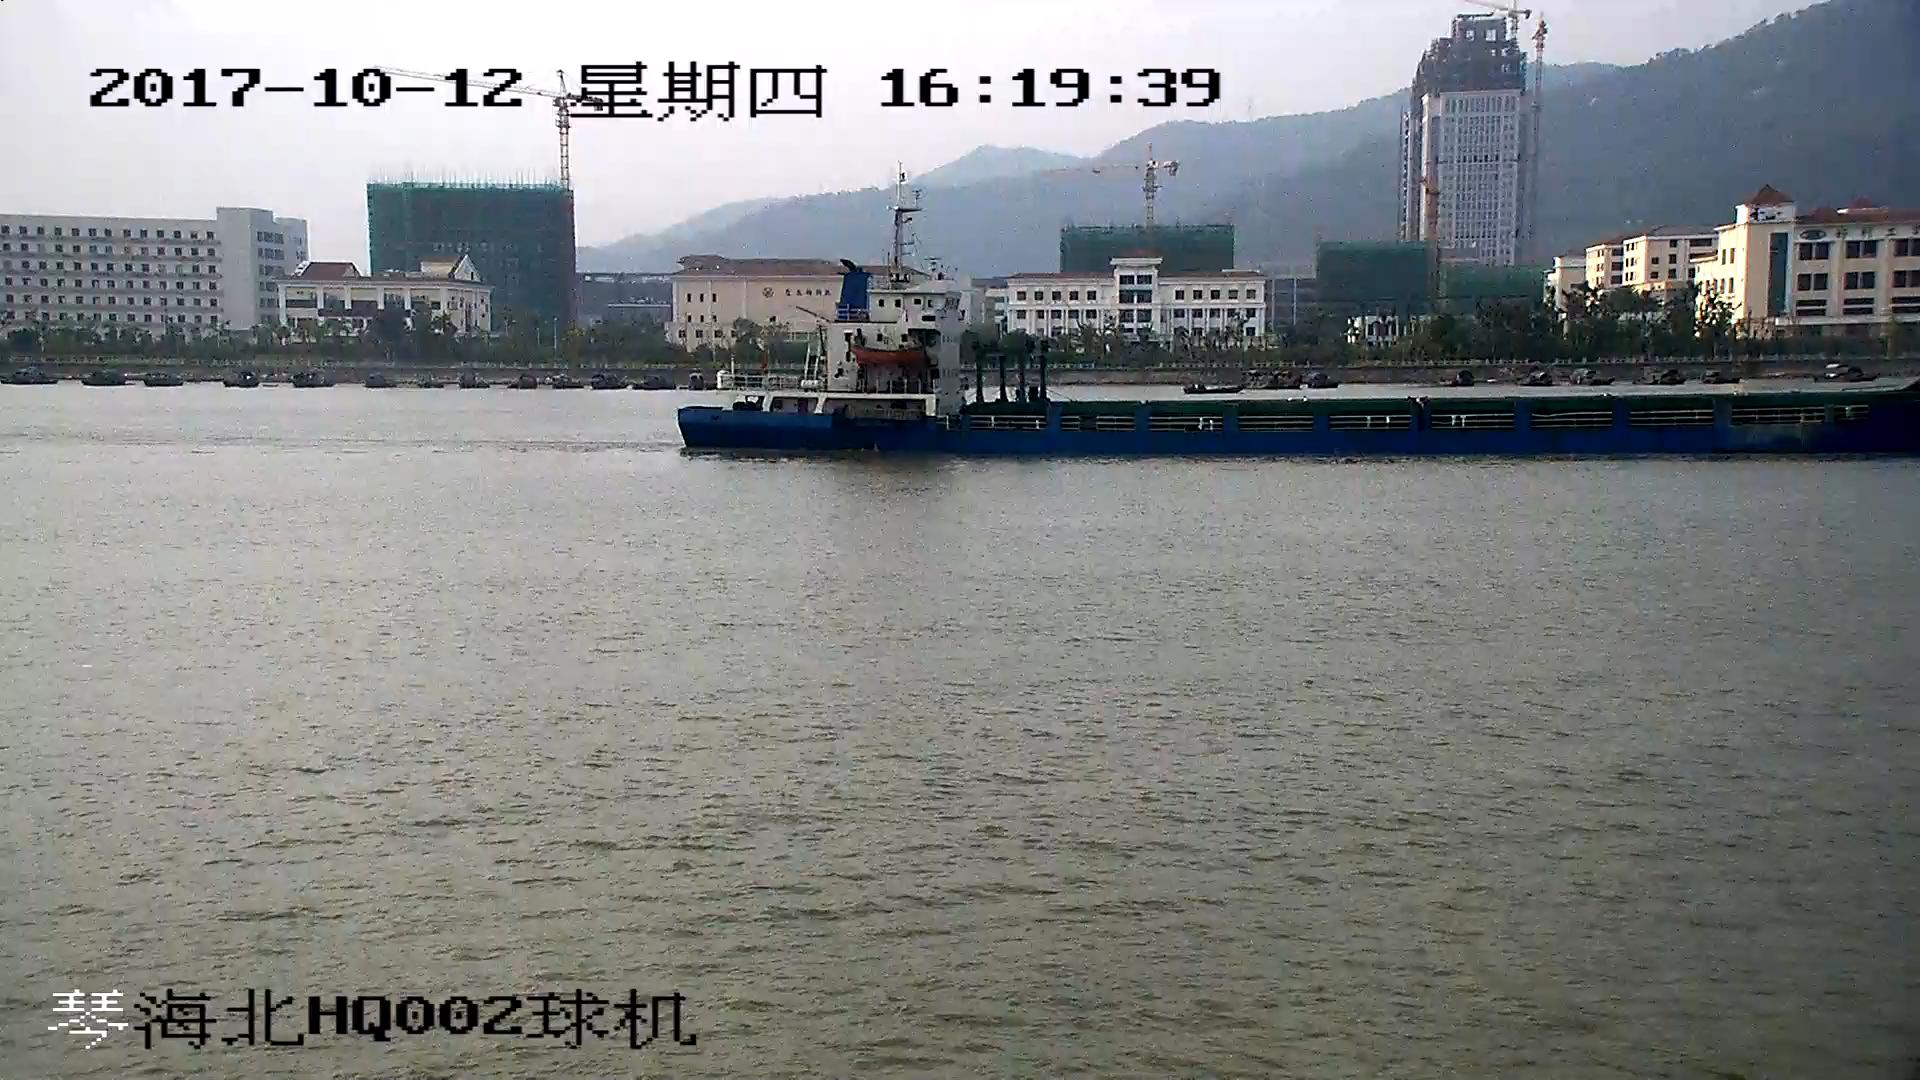general cargo ship: (677, 163, 1920, 462)
